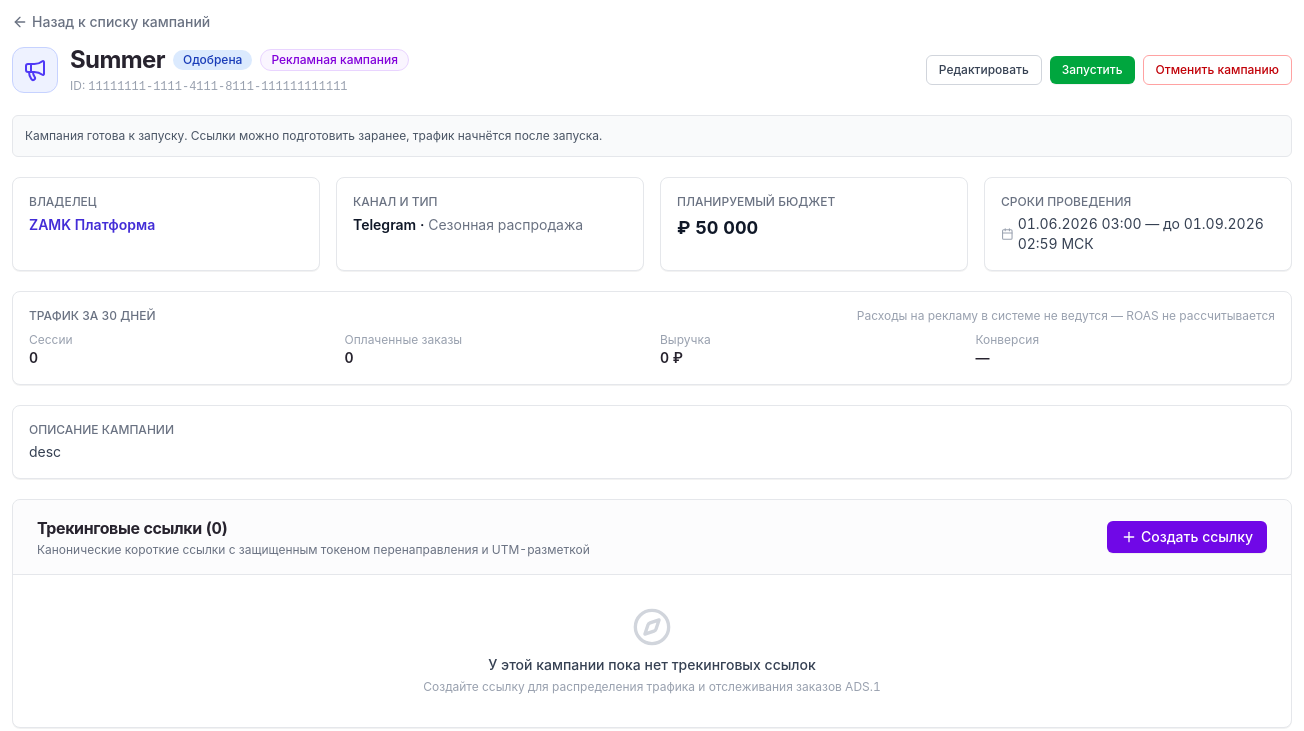
it: AdminMarketingCampaignDetail (M1.1/M1.3) › explains a rejected transition and resyncs the stale status from the server
The width and height of the screenshot is (1304, 731).
Click the button with test id "activate-campaign-button": x=1092, y=70 1050,56 -> 1135,84
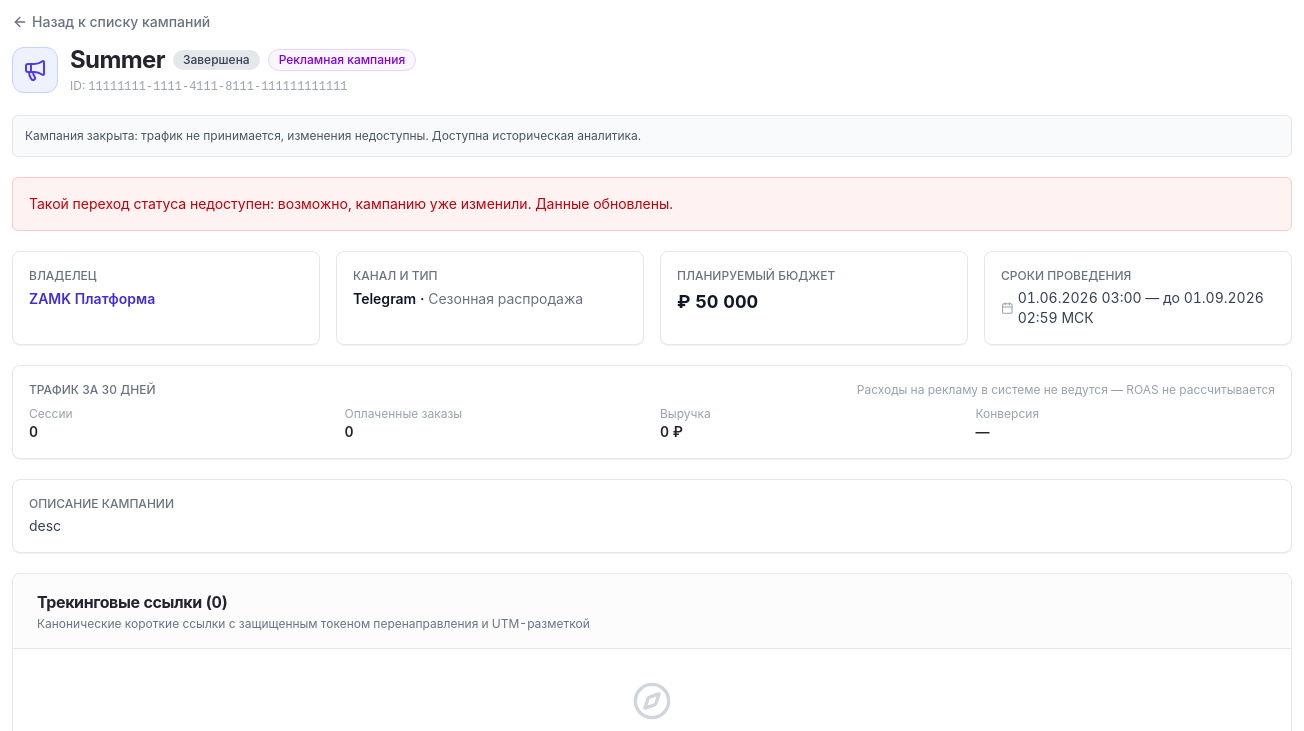
Result: the text with test id "detail-error" shows "Такой переход статуса недоступен" at 29,195 -> 673,212
Result: the text with test id "campaign-status-badge" reads "Завершена" at 183,52 -> 250,67
Result: the button with test id "activate-campaign-button" is gone
